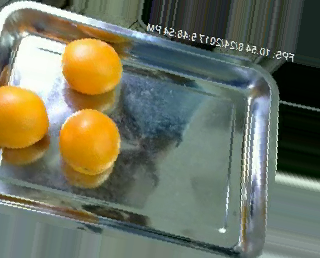Orange: (60, 108, 121, 176), (61, 38, 122, 94), (0, 84, 49, 148)
